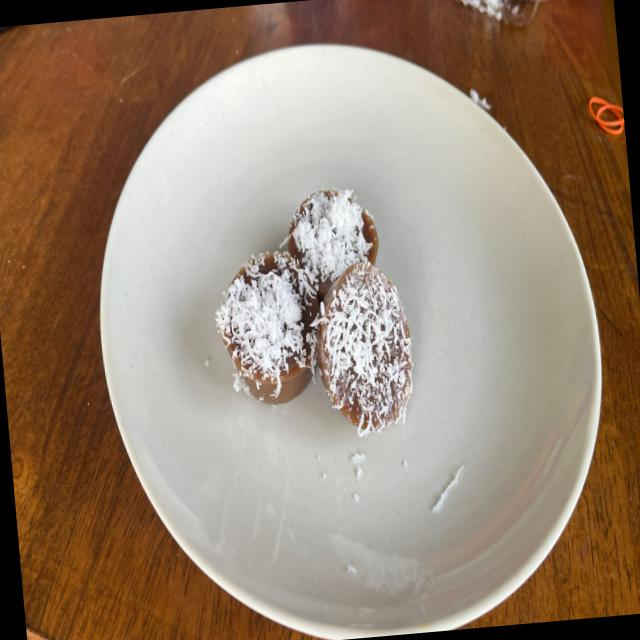Kuih lompang: (316, 262, 412, 437), (215, 250, 319, 404), (287, 188, 378, 300)
